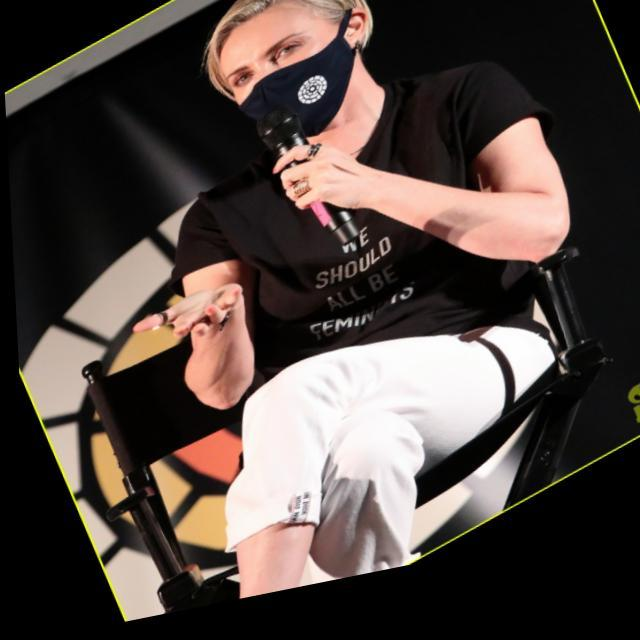Nonhelmet: (187, 0, 377, 143)
